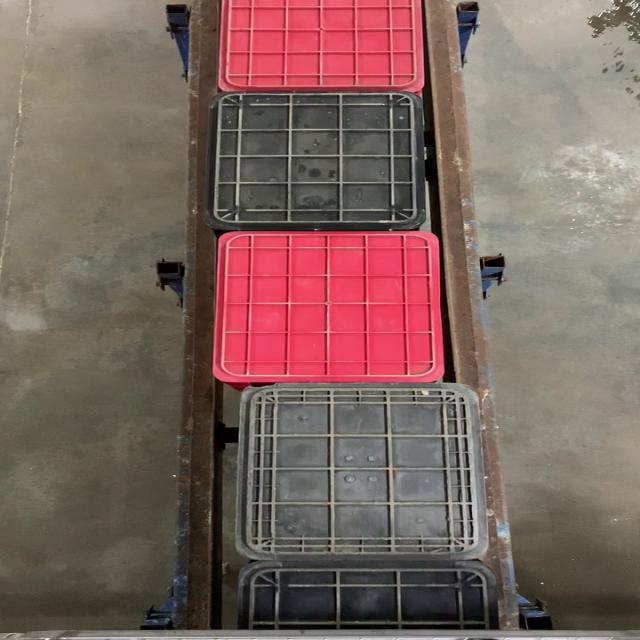Box: (238, 383, 484, 561), (210, 230, 442, 382), (204, 89, 431, 229)
